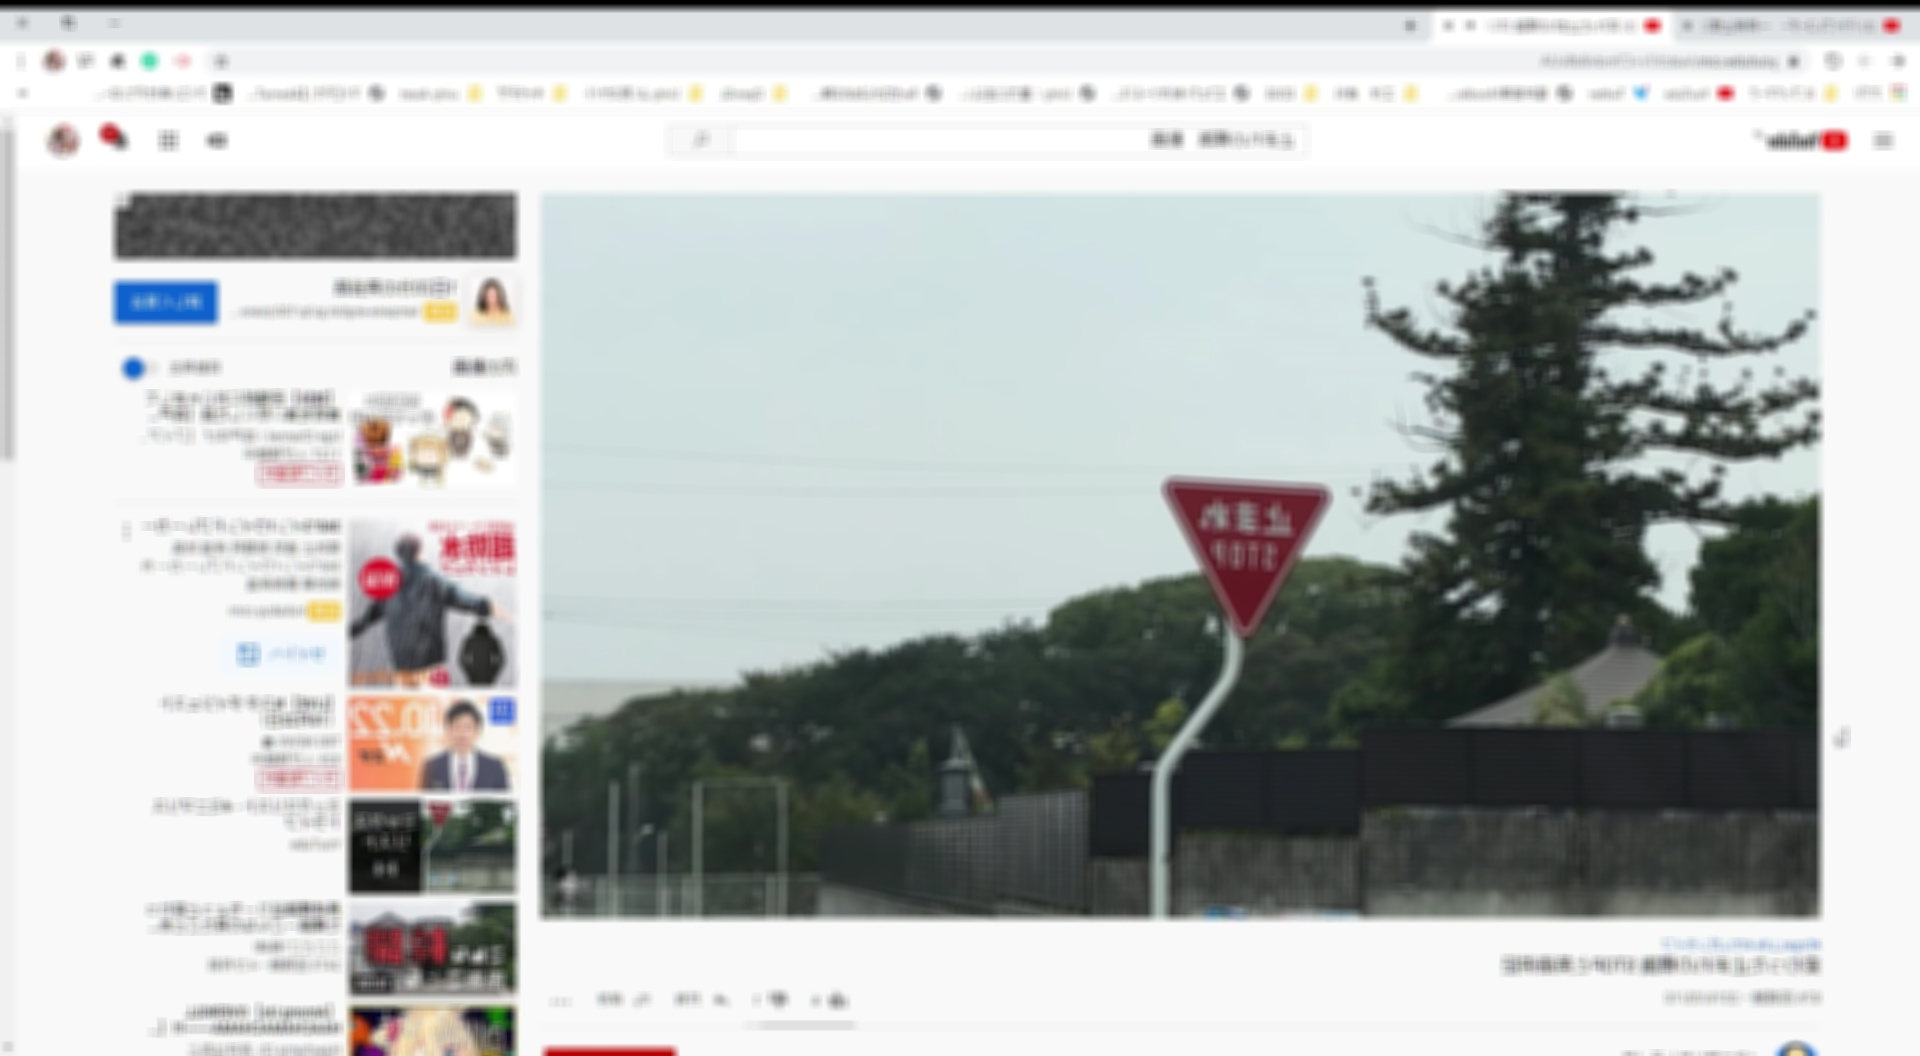Regulatory_sign_triangle: (1157, 459, 1332, 668)
